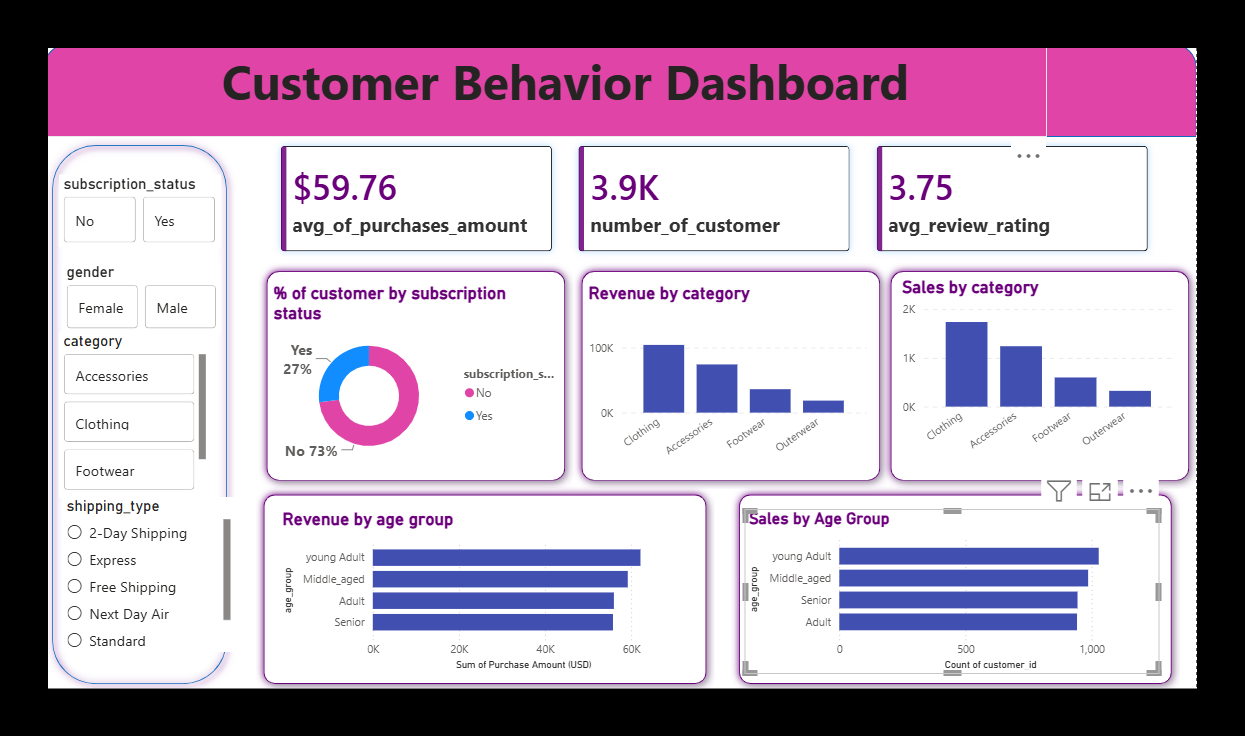

The page's visual inventory and layout, read from the dashboard file:
{"tool":"powerbi","page":{"name":"Page 1","canvas":[1280,720],"ordinal":0},"visuals":[{"type":"cardVisual","fields":{"Data":["customer.avg_of_purchases_amount","customer.number_of_customer","customer.avg_review_rating"]},"box":[234.8,85.8,1020.1,173.3],"z":0},{"type":"shape","box":[0,0,1280.6,103.2],"z":1000},{"type":"textbox","box":[0,0,1114.5,103.2],"z":2000},{"type":"shape","box":[238,242.9,349.8,251],"z":3000},{"type":"donutChart","title":"% of customer by subscription status","fields":{"Y":["CountNonNull(customer.customer_id)"],"Category":["customer.subscription_status"]},"box":[249.4,265.6,325.5,207.3],"z":4000},{"type":"shape","box":[587.8,242.9,349.8,251],"z":5000},{"type":"shape","box":[931.1,242.9,349.8,251],"z":6000},{"type":"clusteredColumnChart","title":"Revenue by category","fields":{"Y":["Sum(customer.purchase_amount)"],"Category":["customer.category"]},"box":[600.7,265.6,319,207.3],"z":7000},{"type":"clusteredColumnChart","title":"Sales by category","fields":{"Y":["CountNonNull(customer.customer_id)"],"Category":["customer.category"]},"box":[948.9,259.1,312.5,207.3],"z":8000},{"type":"shape","box":[0,103.6,212.1,616.9],"z":9000},{"type":"advancedSlicerVisual","fields":{"Values":["customer.subscription_status"]},"box":[16.2,145.7,179.7,81],"z":10000},{"type":"advancedSlicerVisual","fields":{"Values":["customer.gender"]},"box":[19.4,242.9,176.5,77.7],"z":11000},{"type":"advancedSlicerVisual","fields":{"Values":["customer.category"]},"box":[16.2,320.6,168.4,183],"z":12000},{"type":"listSlicer","fields":{"Values":["customer.shipping_type"]},"box":[19.4,503.6,192.7,171.6],"z":13000},{"type":"clusteredBarChart","title":"Revenue by age group","fields":{"Y":["Sum(customer.purchase_amount)"],"Category":["customer.age_group"]},"box":[260.7,547.3,401.6,152.2],"z":14000},{"type":"shape","box":[234.8,492.2,510.1,228.3],"z":15000},{"type":"barChart","title":"Revenue by age group","fields":{"Category":["customer.age_group"],"Y":["Sum(customer_behaviour.Purchase Amount (USD))"]},"box":[260.7,516.5,455,183],"z":16000},{"type":"shape","box":[762.7,492.2,498.7,228.3],"z":17000},{"type":"barChart","title":"Sales by Age Group","fields":{"Category":["customer.age_group"],"Y":["CountNonNull(customer.customer_id)"]},"box":[778.8,516.5,461.5,183],"z":18000}]}

Visuals, with their boxes on the page's 1280x720 design canvas (x1, y1, x2, y2). These are canvas units, not pixel positions in the 1245x736 screenshot, which may show the page scaled, cropped or inside an application window:
cardVisual - customer.avg_of_purchases_amount x customer.number_of_customer: locate(235, 86, 1255, 259)
shape: locate(0, 0, 1281, 103)
textbox: locate(0, 0, 1114, 103)
shape: locate(238, 243, 588, 494)
"% of customer by subscription status" donutChart: locate(249, 266, 575, 473)
shape: locate(588, 243, 938, 494)
shape: locate(931, 243, 1281, 494)
"Revenue by category" clusteredColumnChart: locate(601, 266, 920, 473)
"Sales by category" clusteredColumnChart: locate(949, 259, 1261, 466)
shape: locate(0, 104, 212, 720)
advancedSlicerVisual - customer.subscription_status: locate(16, 146, 196, 227)
advancedSlicerVisual - customer.gender: locate(19, 243, 196, 321)
advancedSlicerVisual - customer.category: locate(16, 321, 185, 504)
listSlicer - customer.shipping_type: locate(19, 504, 212, 675)
"Revenue by age group" clusteredBarChart: locate(261, 547, 662, 700)
shape: locate(235, 492, 745, 720)
"Revenue by age group" barChart: locate(261, 516, 716, 700)
shape: locate(763, 492, 1261, 720)
"Sales by Age Group" barChart: locate(779, 516, 1240, 700)
